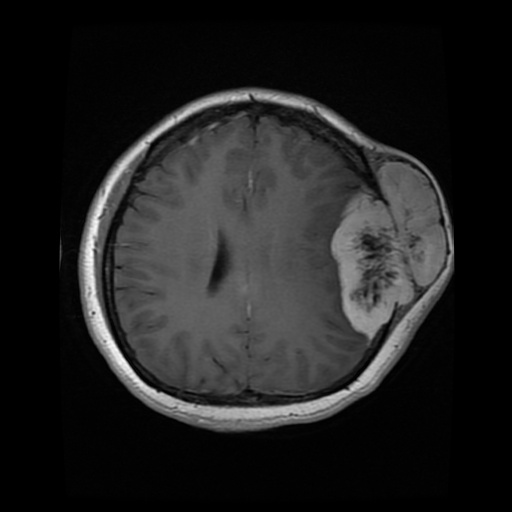meningioma: (330, 160, 445, 341)
